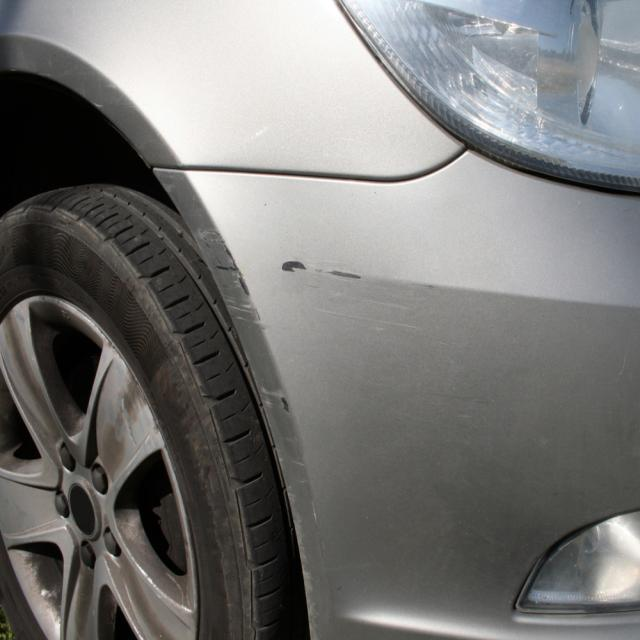scratch: (197, 225, 445, 452)
